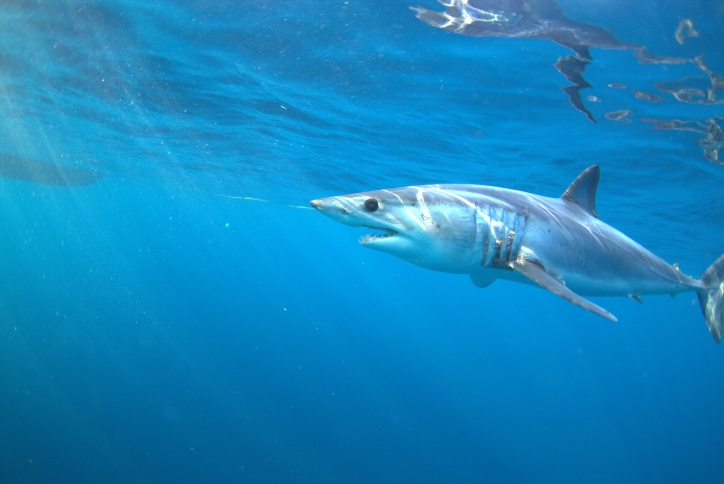Mako: (296, 161, 724, 348)
